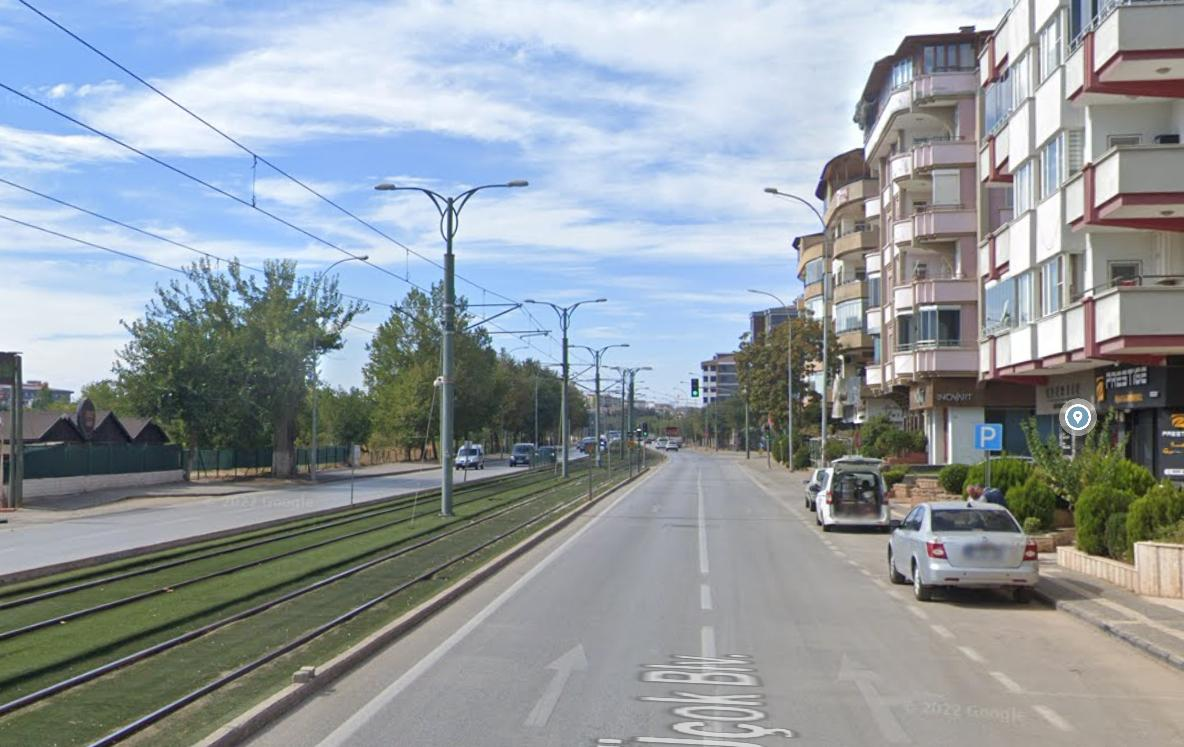park: (974, 424, 1005, 453)
